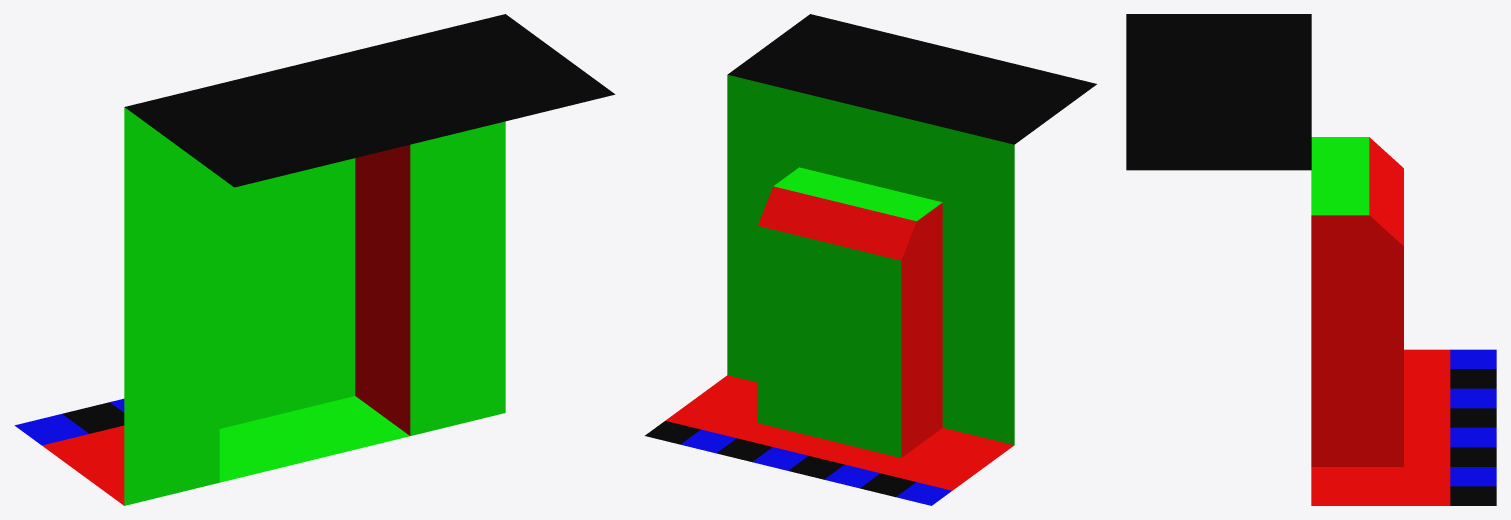
Rendered from Wall_0.fbx.
3 views of the same model, side by side, from view 1: azimuth 30°, elevation 25°; view 2: azimuth 150°, elevation 25°; view 3: azimuth 270°, elevation 25° (orthographic). The views are drawn at different scales.
Visible parts, largest first — view 1: Plane.001; view 2: Plane.001; view 3: Plane.001.
Boxes of the visible parts, x1,y1,x2,y2 form: Plane.001: (14, 14, 615, 505); Plane.001: (645, 14, 1096, 505); Plane.001: (1126, 14, 1496, 505).
Bounding box in the file's own units: 1 × 1 × 1.
